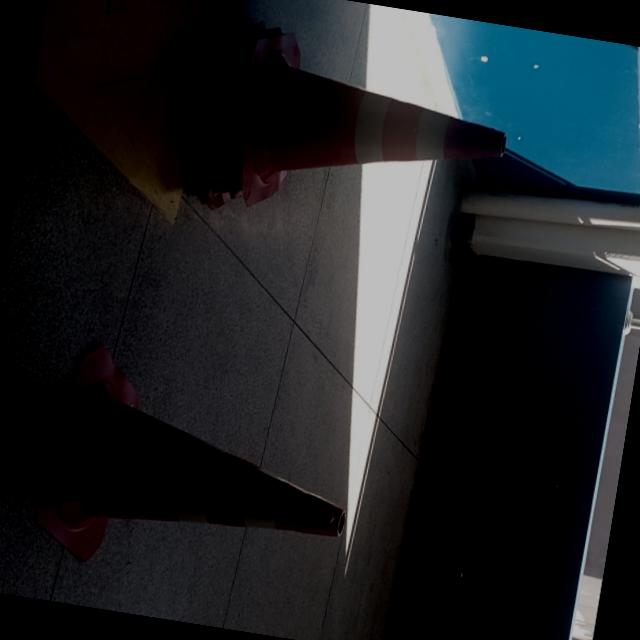cone: (24, 335, 377, 614), (187, 8, 532, 274)
